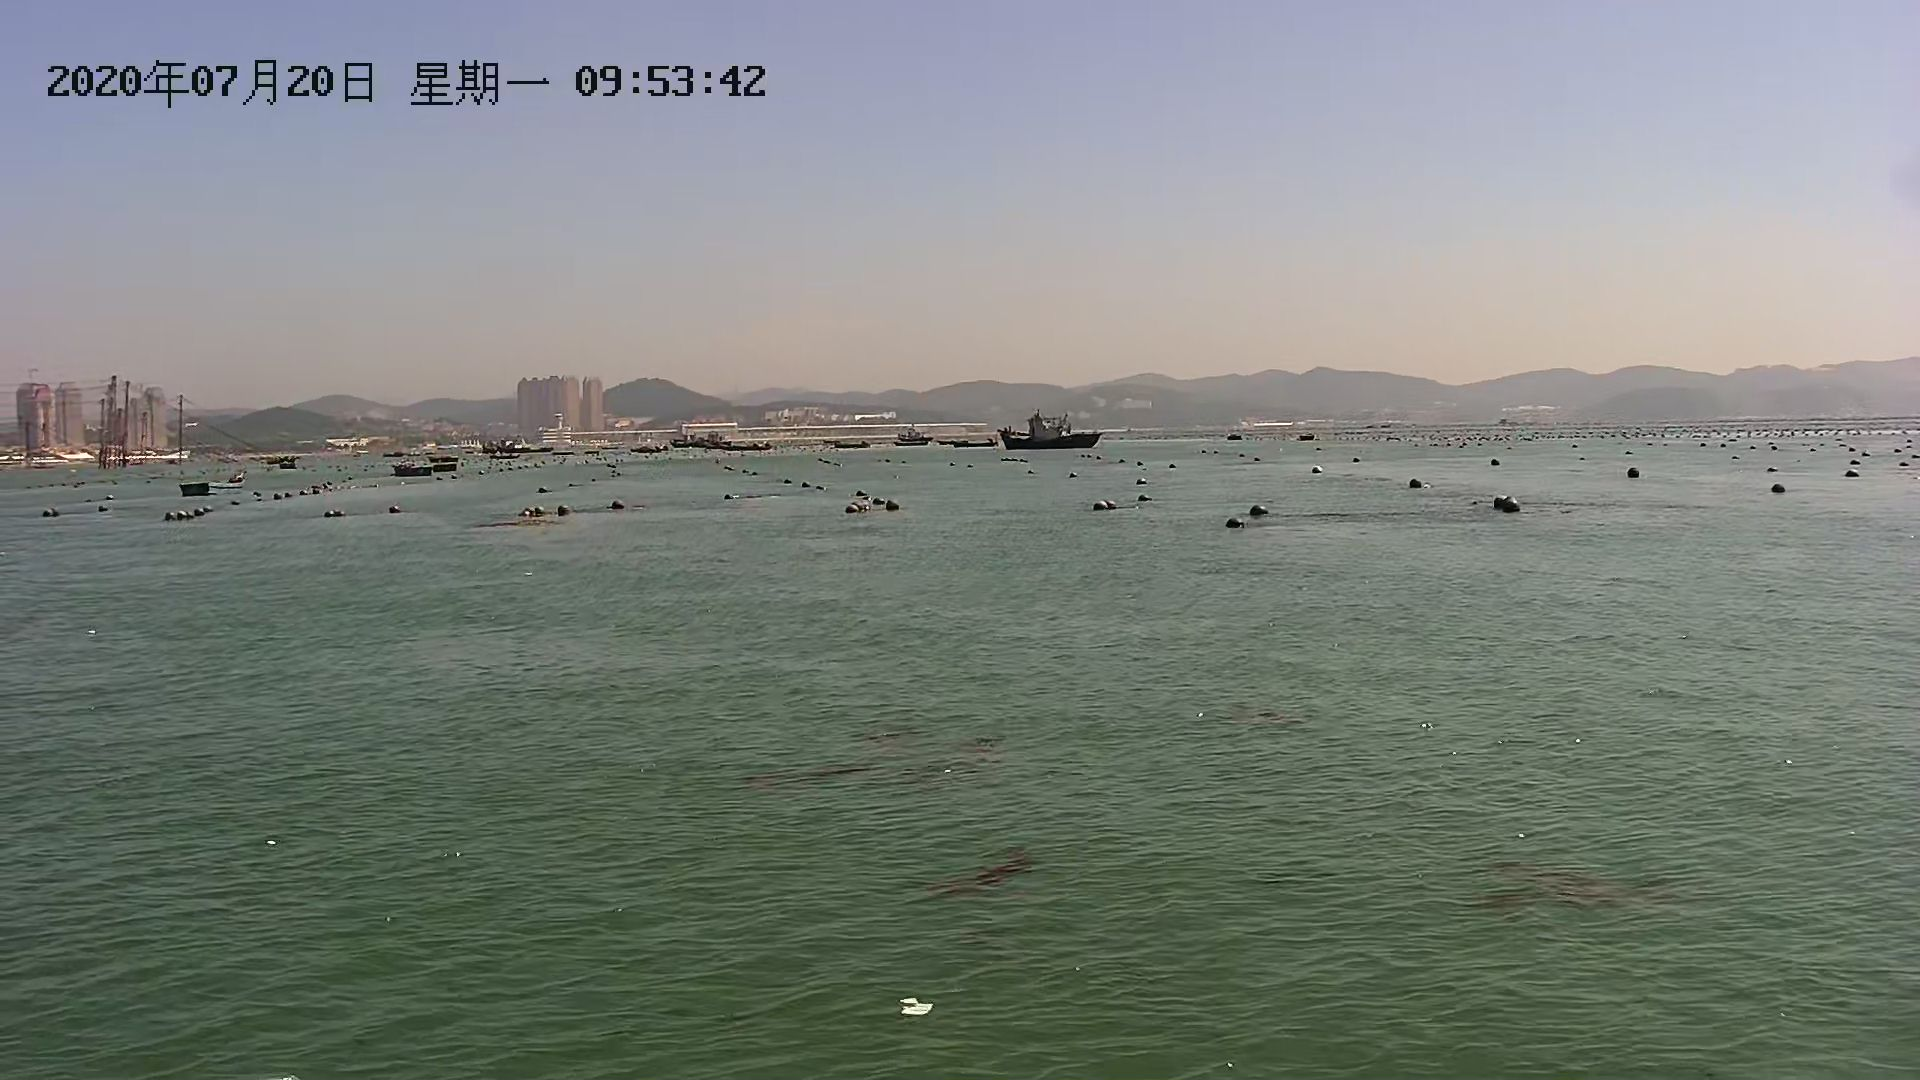ball: (1487, 487, 1523, 512), (1222, 514, 1250, 537), (1251, 501, 1280, 521), (385, 500, 410, 518), (554, 502, 578, 521), (884, 495, 907, 513)
boat: (175, 469, 252, 497), (393, 460, 477, 483)
mast: (171, 392, 191, 477)
ship: (996, 413, 1104, 455)
